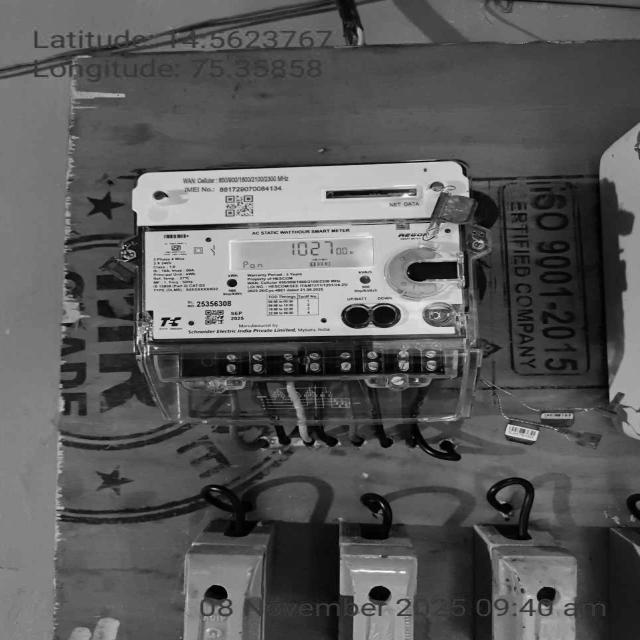meter: (130, 162, 473, 337)
